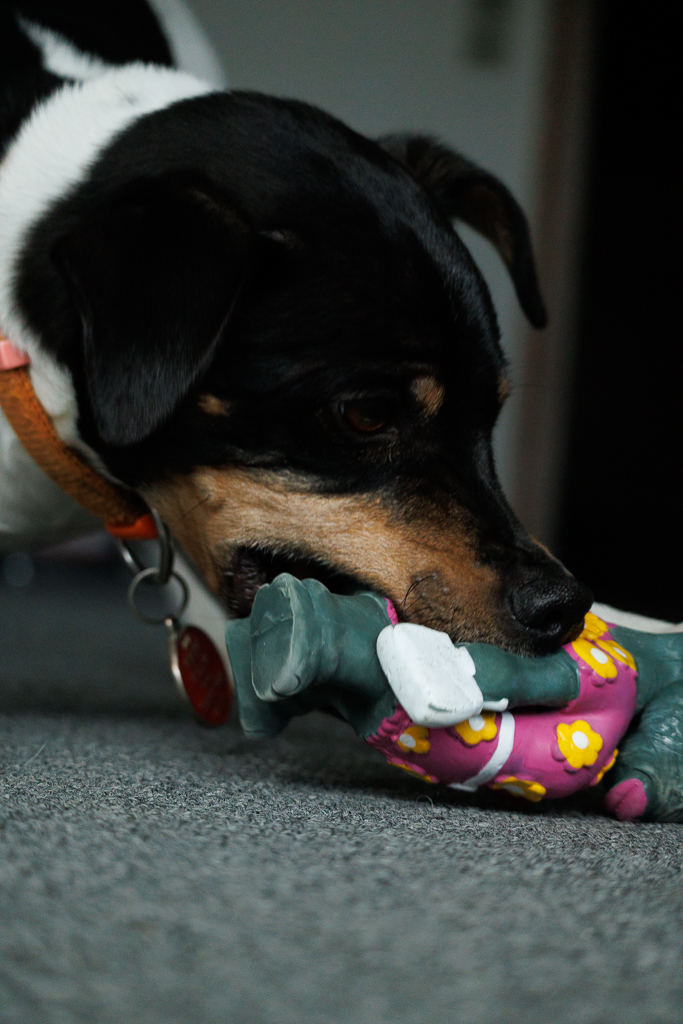Dog: (0, 2, 600, 700)
Humanoid: (212, 569, 683, 847)
